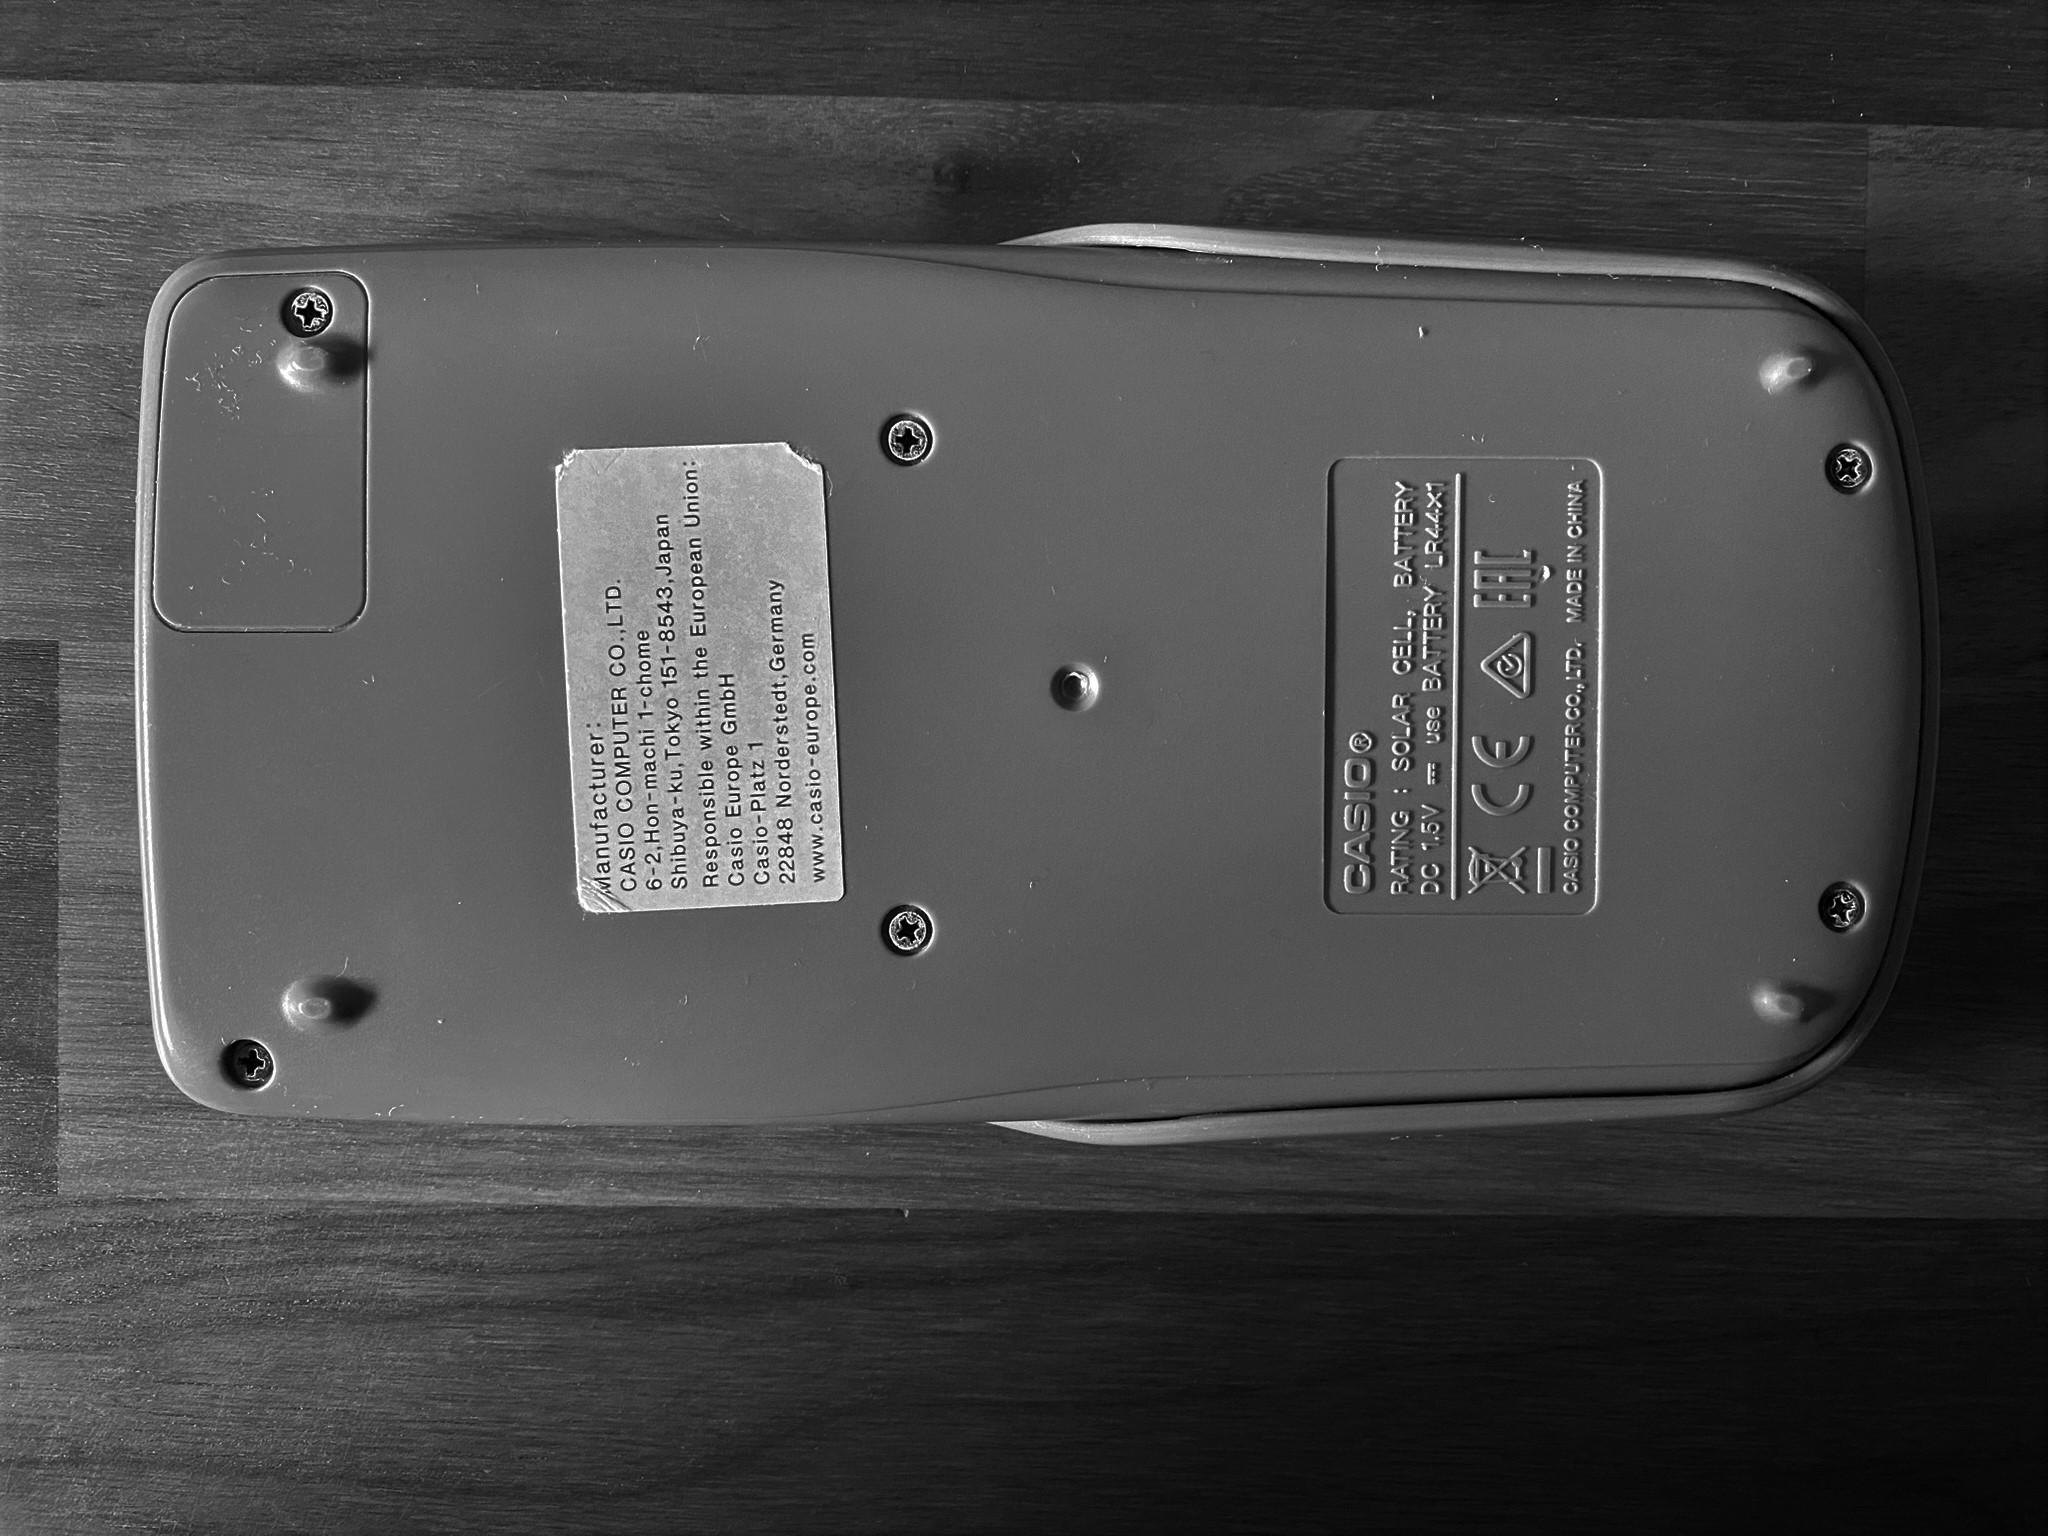PH: (1817, 883, 1866, 934), (285, 286, 332, 336), (884, 904, 930, 954), (1825, 444, 1872, 492), (887, 418, 932, 465), (227, 1039, 273, 1086)
